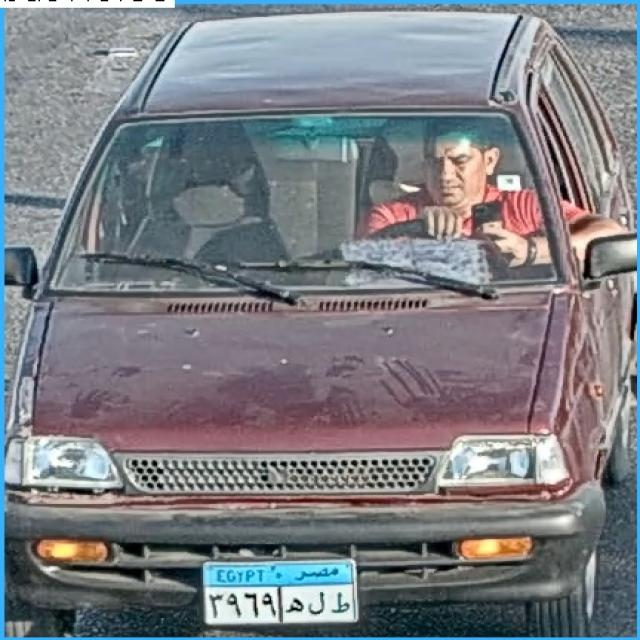windshield: (55, 120, 570, 282)
